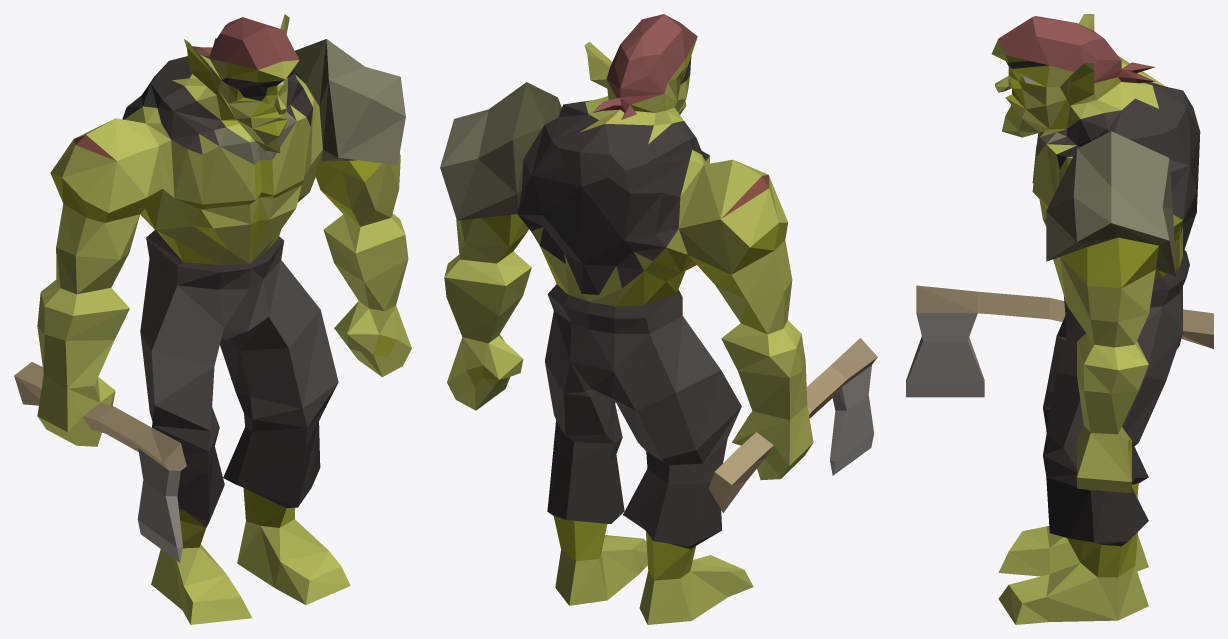
File: grimspike.glb
The picture shows the model from 3 angles, left to right: view 1: azimuth 30°, elevation 25°; view 2: azimuth 150°, elevation 25°; view 3: azimuth 270°, elevation 25°; orthographic projection. The views are drawn at different scales.
Bounding box in the file's own units: 121 × 184 × 90.
Materials: 1 (1 with a texture image).
